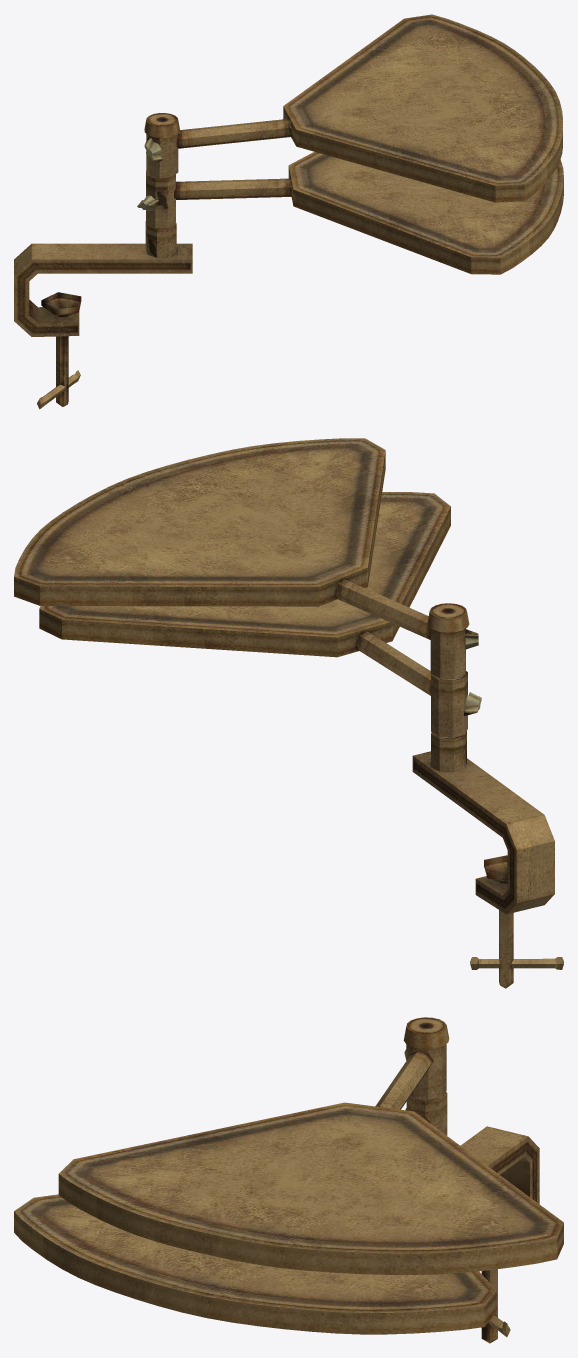
The model's file is shelf-wall-small.glb.
The picture shows the model from 3 angles, top to bottom: view 1: azimuth 30°, elevation 25°; view 2: azimuth 150°, elevation 25°; view 3: azimuth 270°, elevation 25°; orthographic projection. The views are drawn at different scales.
Visible parts, largest first — view 1: shelf-wall-small; view 2: shelf-wall-small; view 3: shelf-wall-small.
Part boxes in pixels (x1,y1,x2,y2): shelf-wall-small: (14, 14, 563, 409); shelf-wall-small: (14, 438, 563, 988); shelf-wall-small: (14, 1017, 563, 1343).
Size of the model in its own units: 0.4304 by 0.2536 by 0.3477.
Materials: 1 (1 with a texture image).
